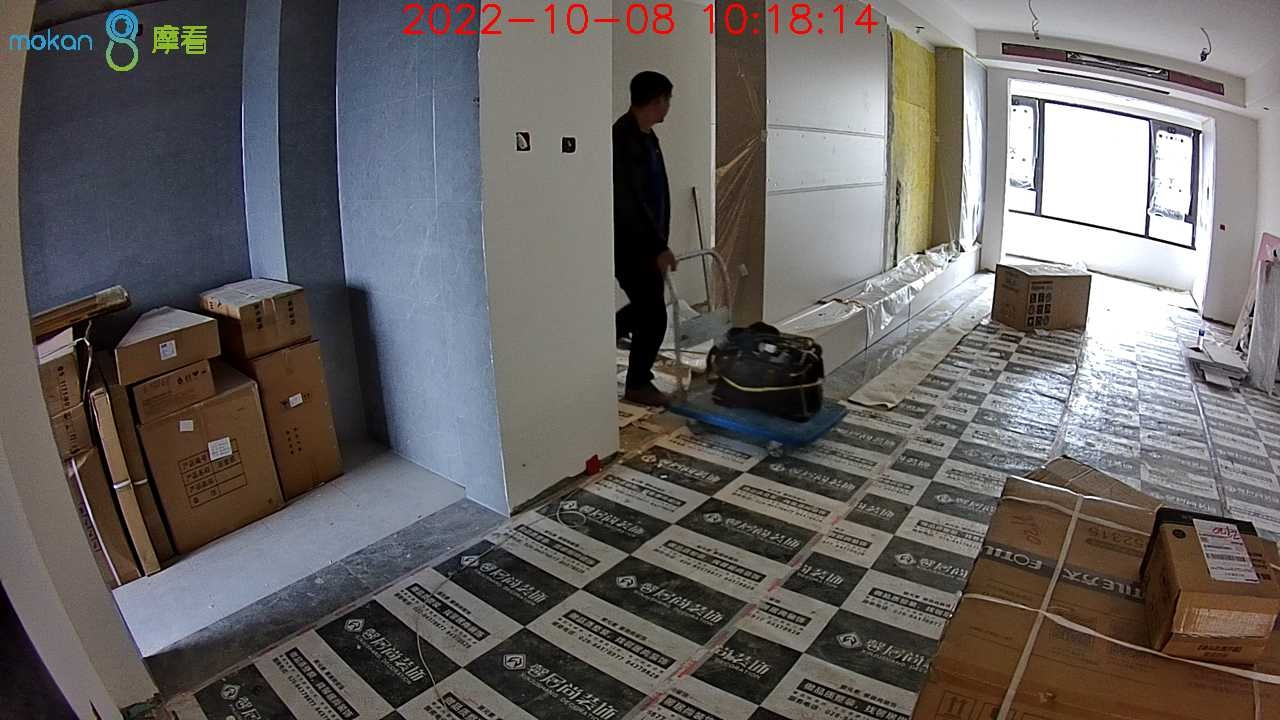people: (613, 70, 672, 407)
window: (1012, 90, 1199, 254)
